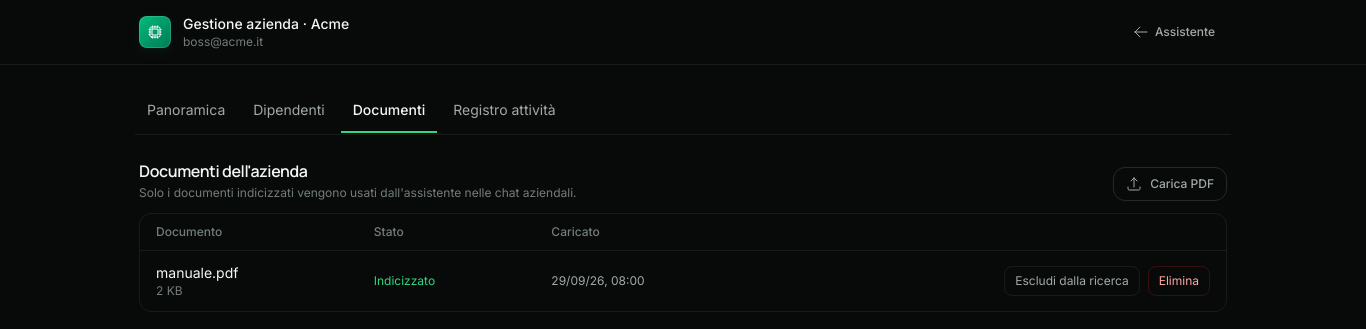
gestione azienda › esclude un documento dalla ricerca e lo reindicizza
Click the button "Escludi dalla ricerca".
click(1072, 281)  # box [1004,266,1140,296]
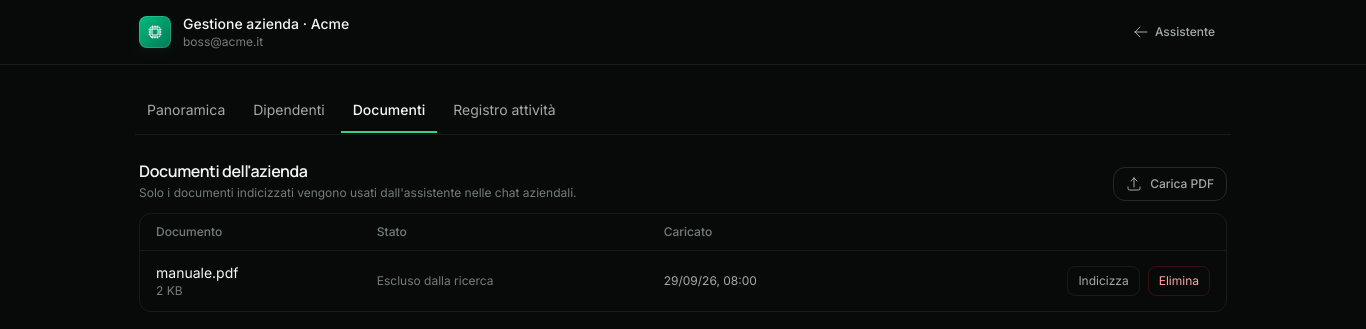
expect the text "Escluso dalla ricerca" is shown: met, box [361,250,648,311]
Click the button "Indicizza".
click(1104, 281)  # box [1067,266,1140,296]
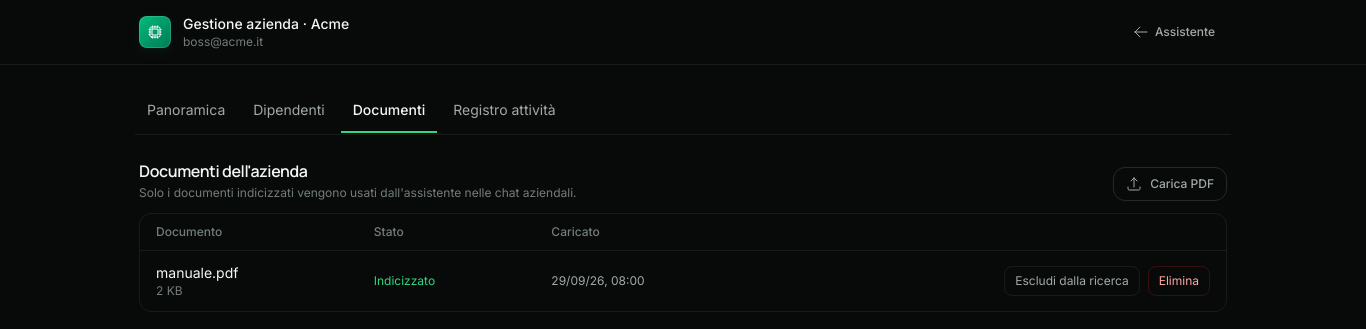
expect the text "Indicizzato" is shown: met, box [358,250,535,311]
